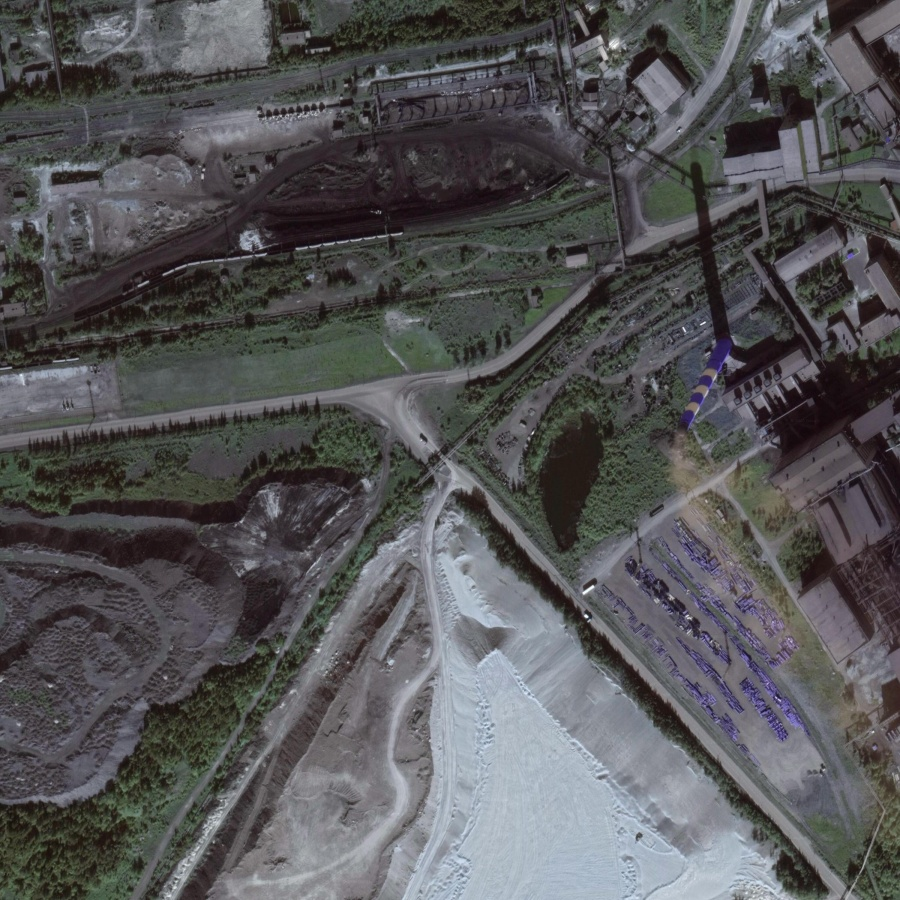PowerPlant: (138, 98, 578, 262)
